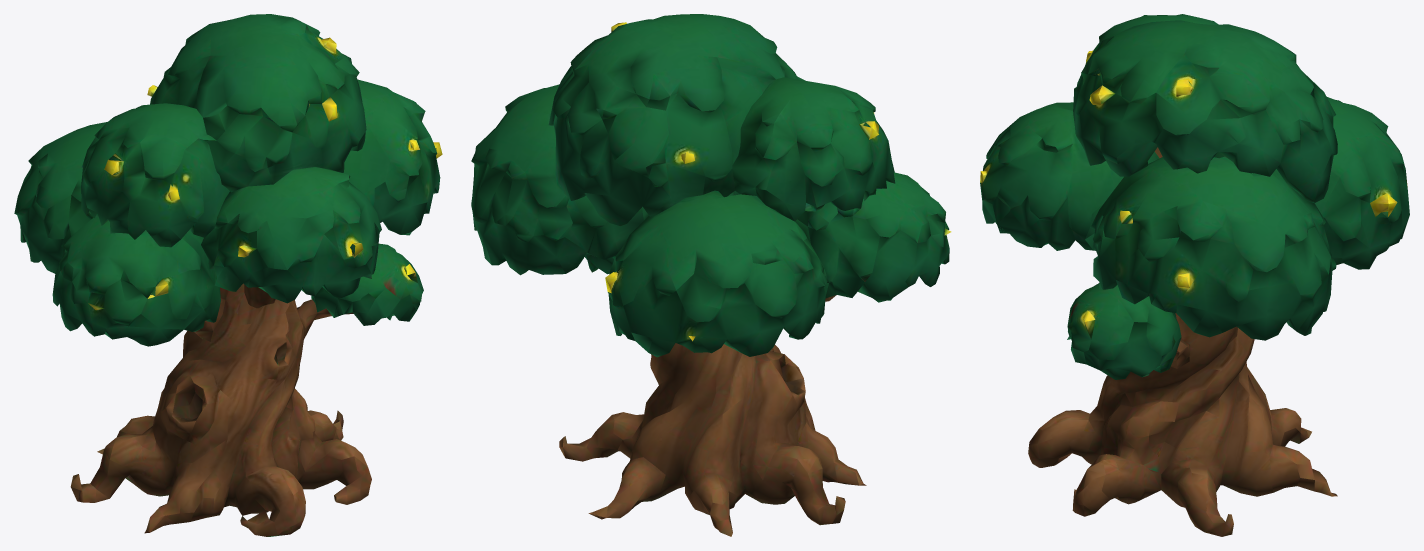
Rendered from bosque_arbolgrande2.glb.
The picture shows the model from 3 angles, left to right: view 1: azimuth 30°, elevation 25°; view 2: azimuth 150°, elevation 25°; view 3: azimuth 270°, elevation 25°; orthographic projection. The views are drawn at different scales.
Parts seen in each view (by area): view 1: tripo_node_1d3d6c88-bff2-4923-883b-140ff3a69f78; view 2: tripo_node_1d3d6c88-bff2-4923-883b-140ff3a69f78; view 3: tripo_node_1d3d6c88-bff2-4923-883b-140ff3a69f78.
Part boxes in pixels (box(x1,y1,x2,y2)): tripo_node_1d3d6c88-bff2-4923-883b-140ff3a69f78: box(14, 14, 442, 536); tripo_node_1d3d6c88-bff2-4923-883b-140ff3a69f78: box(471, 14, 951, 536); tripo_node_1d3d6c88-bff2-4923-883b-140ff3a69f78: box(980, 14, 1409, 536).
Size of the model in its own units: 0.9494 by 0.9977 by 0.8384.
Materials: 1 (1 with a texture image).
